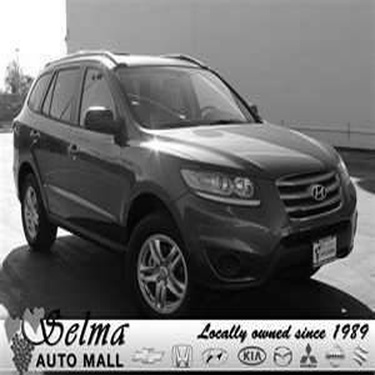car: (3, 41, 365, 318)
